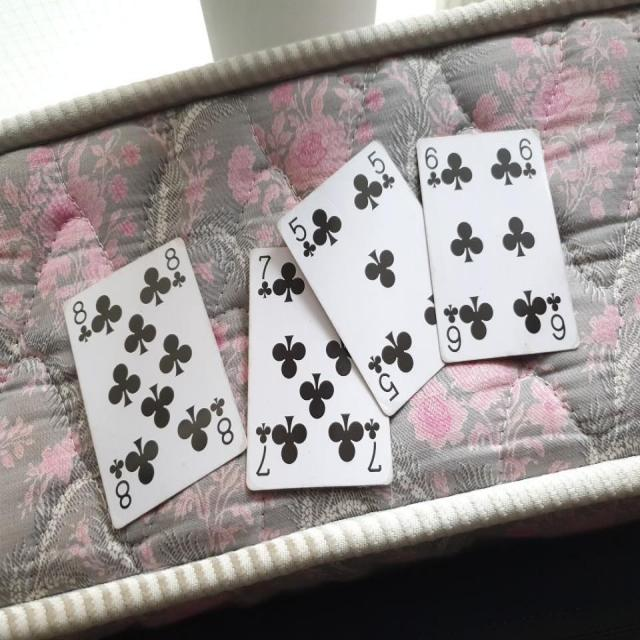5 Trefoils: (274, 140, 446, 417)
6 Trefoils: (414, 125, 579, 362)
7 Trefoils: (245, 246, 396, 489)
8 Trefoils: (60, 233, 246, 531)
